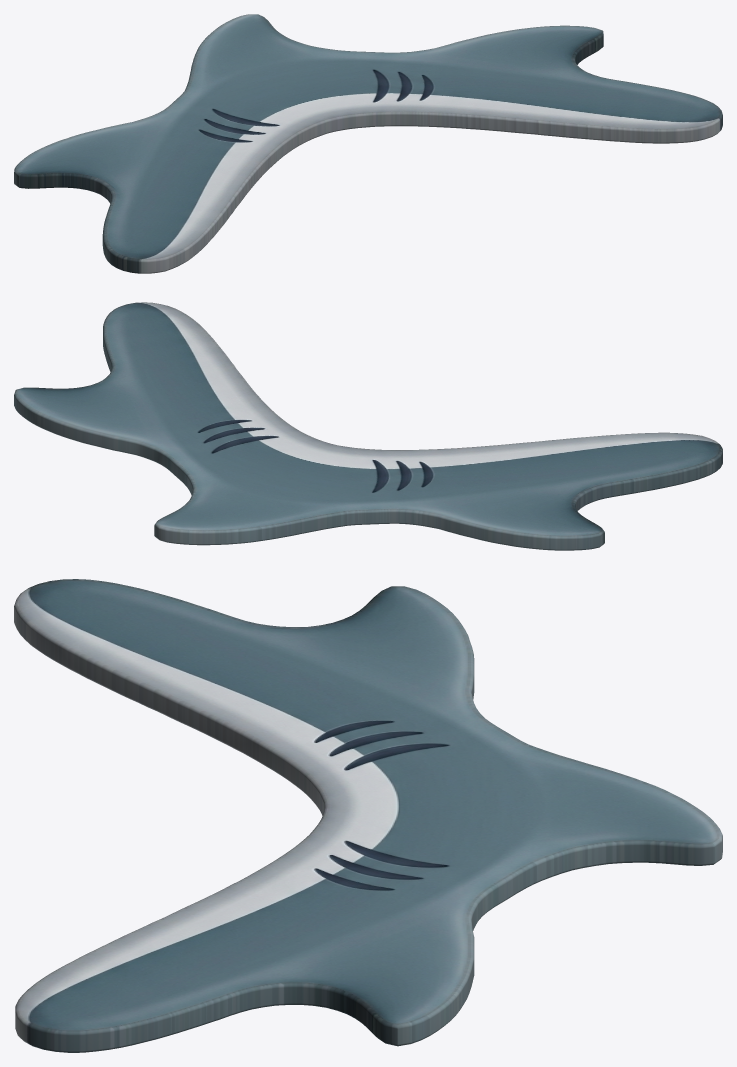
Rendered from Boomerang_37.fbx.
3 renders of one model, top to bottom at view 1: azimuth 30°, elevation 25°; view 2: azimuth 150°, elevation 25°; view 3: azimuth 270°, elevation 25°, orthographic. The views are drawn at different scales.
Visible parts, largest first — view 1: Boomerang_37; view 2: Boomerang_37; view 3: Boomerang_37.
Part boxes in pixels (x1=…): Boomerang_37: x1=14, y1=14, x2=722, y2=273; Boomerang_37: x1=14, y1=302, x2=722, y2=550; Boomerang_37: x1=14, y1=579, x2=722, y2=1052.
Bounding box in the file's own units: 201 × 4.4 × 133.
1 material, 1 textured.
